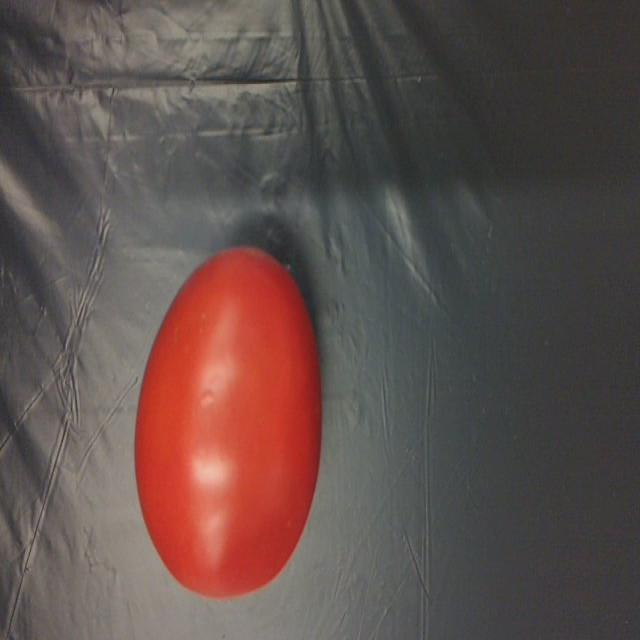kirmizi: (117, 246, 323, 604)
